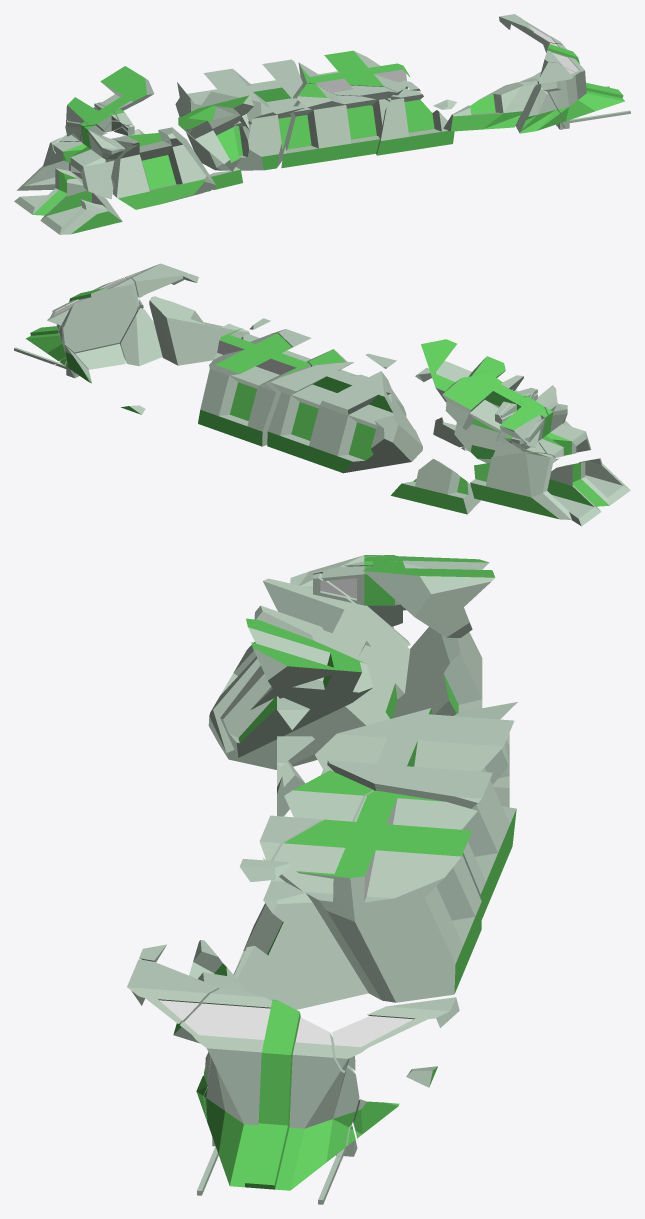
Rendered from Drednaught-Shatter3.fbx.
The picture shows the model from 3 angles, top to bottom: view 1: azimuth 30°, elevation 25°; view 2: azimuth 150°, elevation 25°; view 3: azimuth 270°, elevation 25°; orthographic projection. The views are drawn at different scales.
Parts seen in each view (by area): view 1: DeadnaughtHi_cell.205, DeadnaughtHi_cell.225, DeadnaughtHi_cell.243, DeadnaughtHi_cell.239, DeadnaughtHi_cell.240, DeadnaughtHi_cell.238, DeadnaughtHi_cell.231, DeadnaughtHi_cell.189, DeadnaughtHi_cell.242, DeadnaughtHi_cell.211, DeadnaughtHi_cell.241, DeadnaughtHi_cell.203 (+6 smaller); view 2: DeadnaughtHi_cell.205, DeadnaughtHi_cell.231, DeadnaughtHi_cell.238, DeadnaughtHi_cell.204, DeadnaughtHi_cell.241, DeadnaughtHi_cell.211, DeadnaughtHi_cell.239, DeadnaughtHi_cell.228, DeadnaughtHi_cell.243, DeadnaughtHi_cell.189, DeadnaughtHi_cell.242, DeadnaughtHi_cell.203 (+6 smaller); view 3: DeadnaughtHi_cell.231, DeadnaughtHi_cell.238, DeadnaughtHi_cell.205, DeadnaughtHi_cell.243, DeadnaughtHi_cell.189, DeadnaughtHi_cell.240, DeadnaughtHi_cell.241, DeadnaughtHi_cell.204, DeadnaughtHi_cell.225, DeadnaughtHi_cell.215, DeadnaughtHi_cell.227, DeadnaughtHi_cell.210 (+4 smaller).
Boxes of the visible parts, <box> form: DeadnaughtHi_cell.205: <box>175,59,302,170</box>; DeadnaughtHi_cell.225: <box>281,83,397,168</box>; DeadnaughtHi_cell.243: <box>111,127,216,209</box>; DeadnaughtHi_cell.239: <box>14,168,122,234</box>; DeadnaughtHi_cell.240: <box>376,88,454,155</box>; DeadnaughtHi_cell.238: <box>538,43,630,128</box>; DeadnaughtHi_cell.231: <box>298,50,409,106</box>; DeadnaughtHi_cell.189: <box>178,95,253,171</box>; DeadnaughtHi_cell.242: <box>53,125,125,199</box>; DeadnaughtHi_cell.211: <box>443,78,536,131</box>; DeadnaughtHi_cell.241: <box>65,66,154,136</box>; DeadnaughtHi_cell.203: <box>515,85,563,133</box>; DeadnaughtHi_cell.205: <box>267,362,422,473</box>; DeadnaughtHi_cell.231: <box>198,328,310,446</box>; DeadnaughtHi_cell.238: <box>26,277,139,360</box>; DeadnaughtHi_cell.204: <box>470,452,571,519</box>; DeadnaughtHi_cell.241: <box>442,373,544,447</box>; DeadnaughtHi_cell.211: <box>149,296,249,365</box>; DeadnaughtHi_cell.239: <box>547,458,630,526</box>; DeadnaughtHi_cell.228: <box>391,458,480,514</box>; DeadnaughtHi_cell.243: <box>454,375,571,463</box>; DeadnaughtHi_cell.189: <box>421,339,505,403</box>; DeadnaughtHi_cell.242: <box>538,402,591,457</box>; DeadnaughtHi_cell.203: <box>120,307,162,366</box>; DeadnaughtHi_cell.231: <box>273,790,481,1002</box>; DeadnaughtHi_cell.238: <box>180,988,359,1195</box>; DeadnaughtHi_cell.205: <box>315,702,517,919</box>; DeadnaughtHi_cell.243: <box>208,578,410,769</box>; DeadnaughtHi_cell.189: <box>220,618,373,757</box>; DeadnaughtHi_cell.240: <box>233,858,368,1009</box>; DeadnaughtHi_cell.241: <box>363,555,495,637</box>; DeadnaughtHi_cell.204: <box>393,627,482,717</box>; DeadnaughtHi_cell.225: <box>259,770,373,860</box>; DeadnaughtHi_cell.215: <box>332,997,459,1070</box>; DeadnaughtHi_cell.227: <box>127,959,219,1023</box>; DeadnaughtHi_cell.210: <box>321,566,399,605</box>.
Size of the model in its own units: 1262 by 223 by 381.
